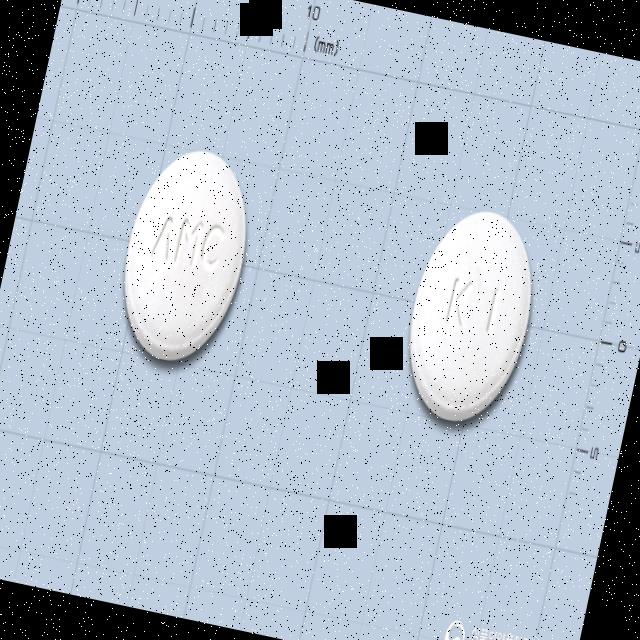Amocla 375mg: (390, 199, 550, 433), (106, 138, 264, 374)
